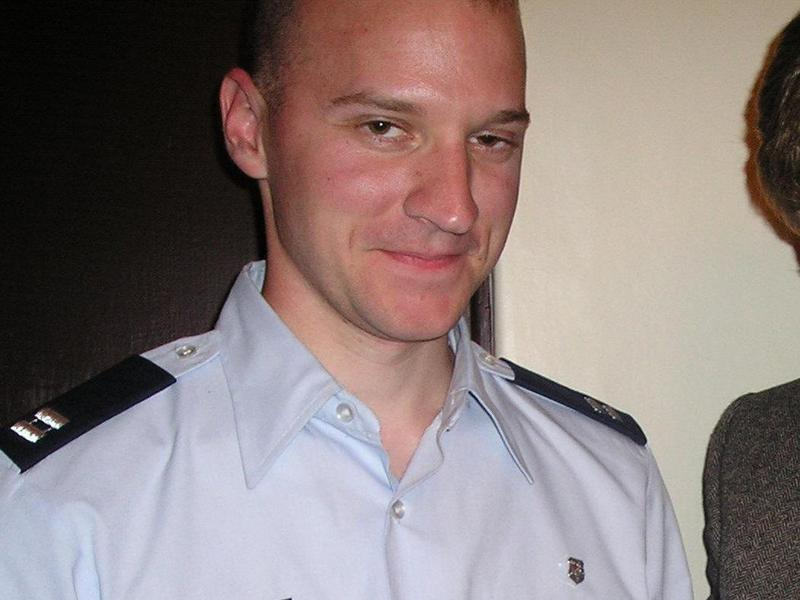person: (1, 2, 699, 596)
